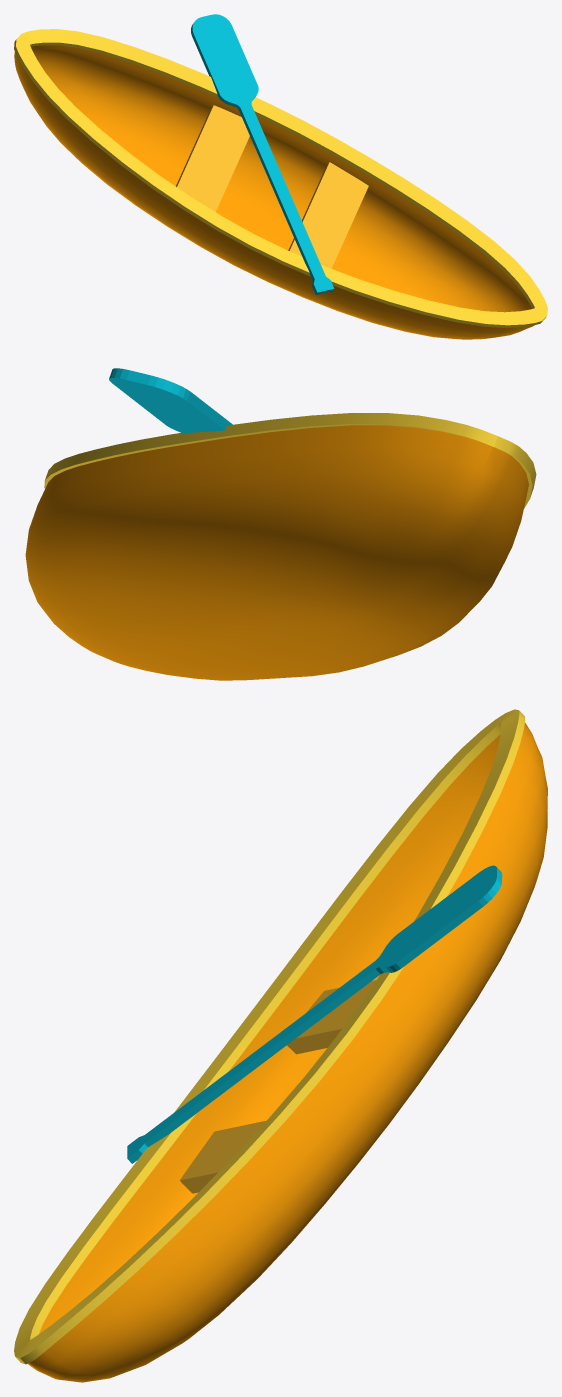
Rendered from canoe.glb.
3 renders of one model, top to bottom at view 1: azimuth 30°, elevation 25°; view 2: azimuth 150°, elevation 25°; view 3: azimuth 270°, elevation 25°, orthographic. The views are drawn at different scales.
Parts seen in each view (by area): view 1: Cube.762; view 2: Cube.762; view 3: Cube.762.
Boxes of the visible parts, x1,y1,x2,y2 form: Cube.762: [14, 14, 547, 339]; Cube.762: [25, 368, 536, 680]; Cube.762: [14, 709, 547, 1382].
Bounding box in the file's own units: 2.3 × 1.63 × 1.86.
Materials: 1 (1 with a texture image).
